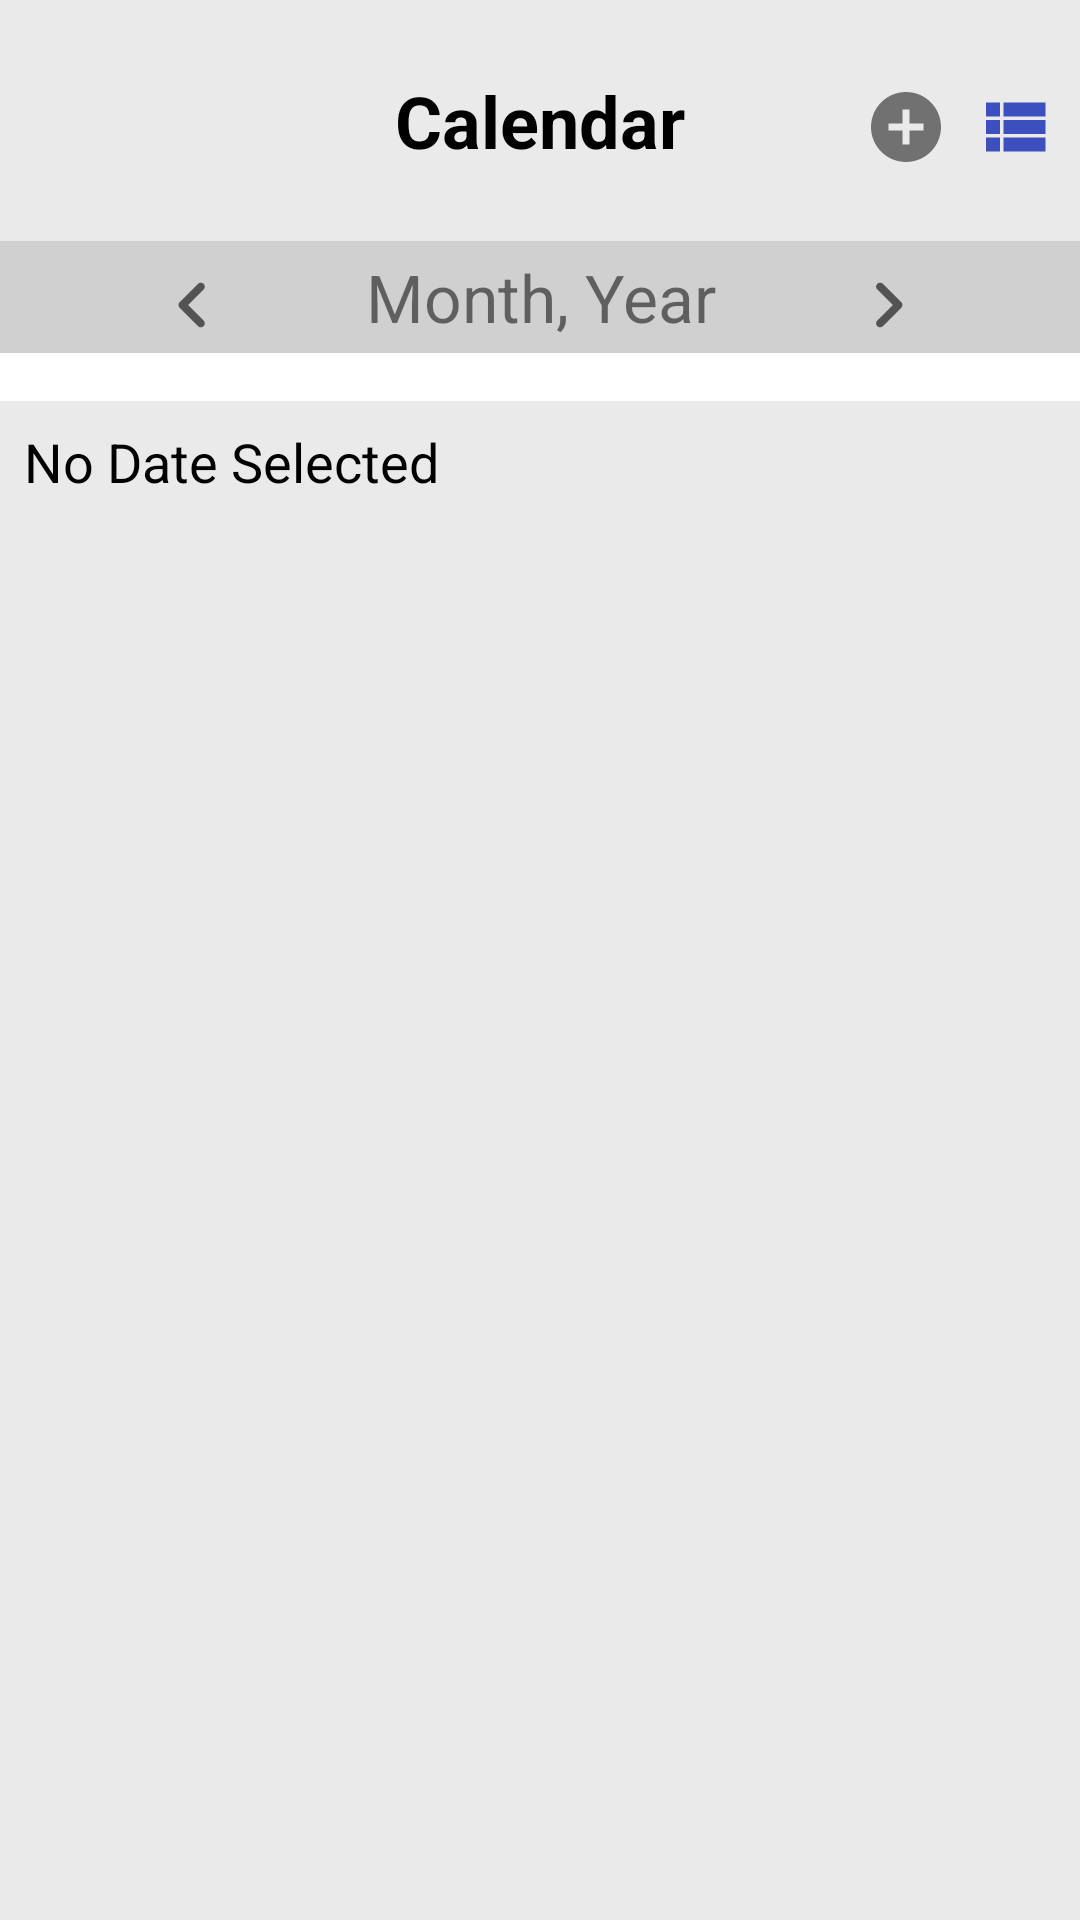

Where icons sit on this 1080px×1920px app screen, as (x1, y1, x2, y2):
add: (871, 92, 941, 162)
list: (986, 102, 1046, 152)
navigate before: (178, 282, 205, 328)
navigate next: (876, 282, 903, 328)
